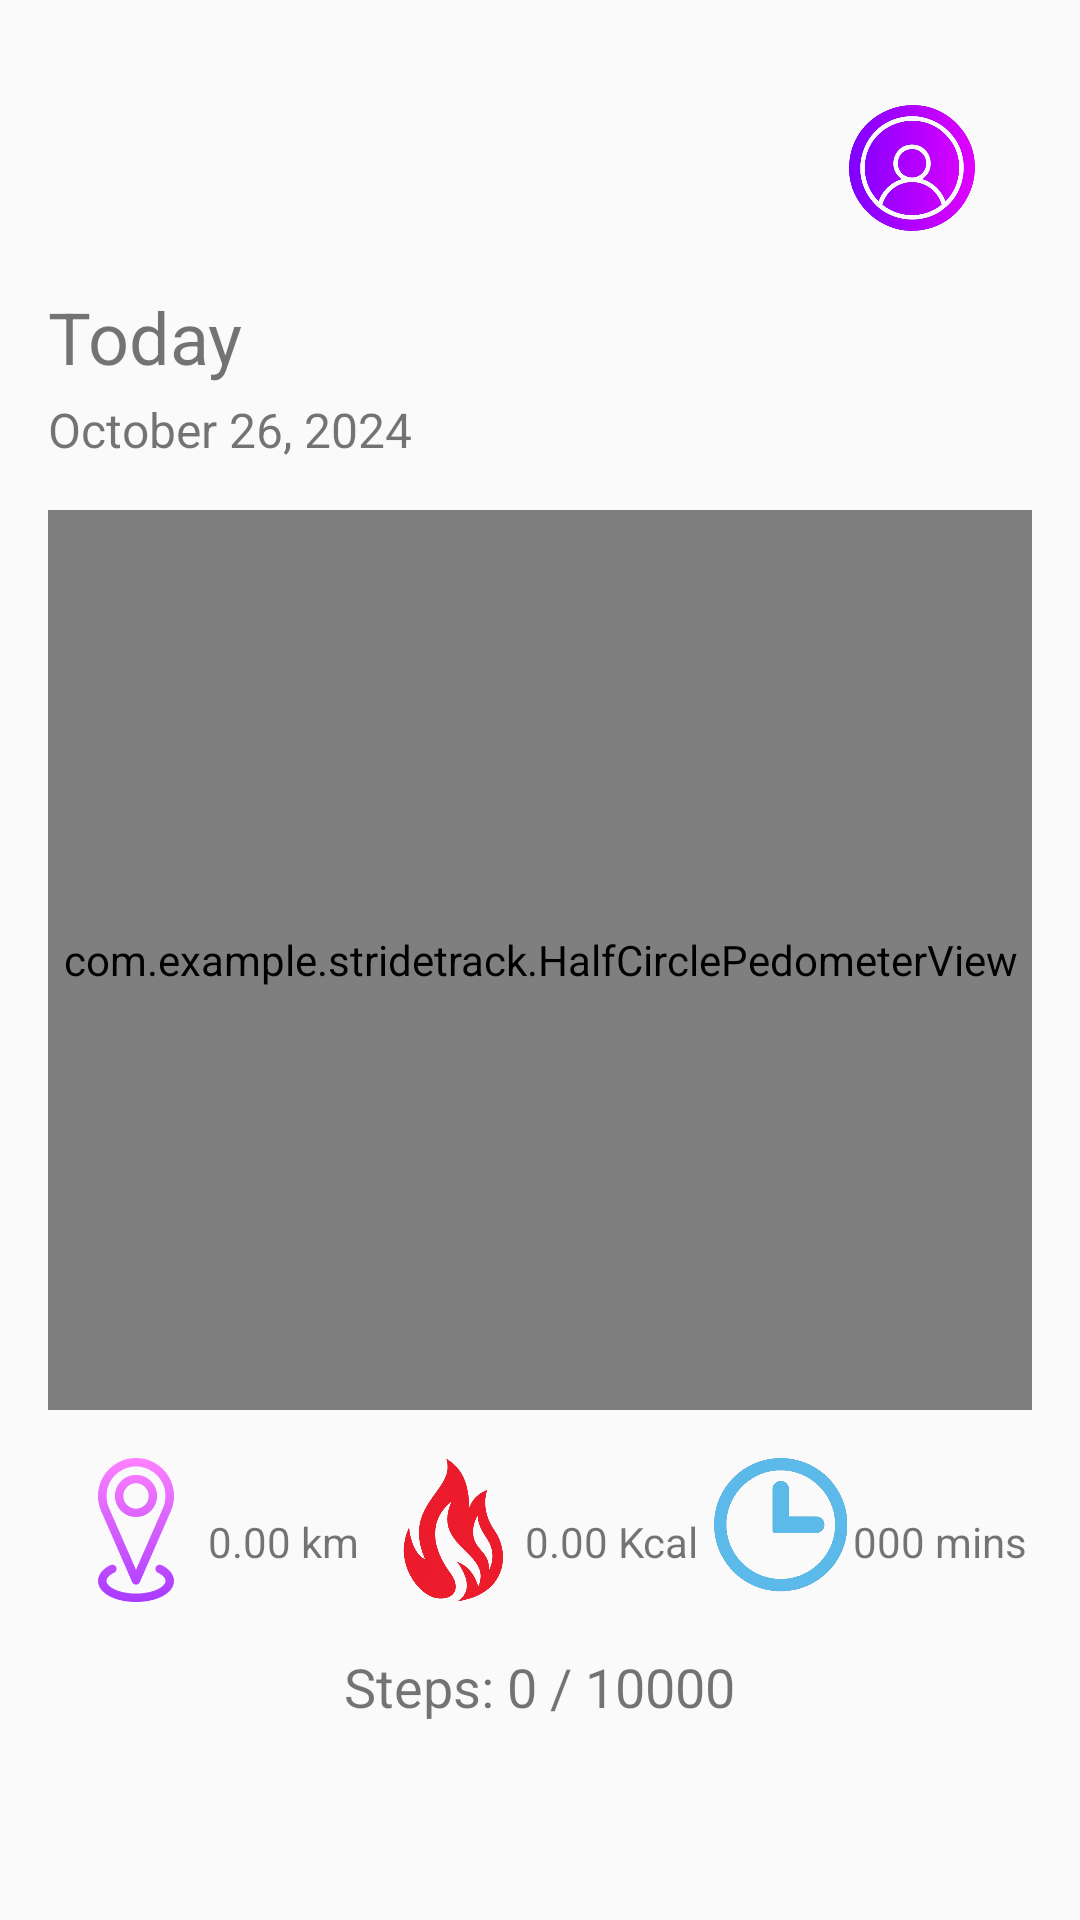

Named icons in this screenshot (1080 × 1920) and their bounding boxes, rect(x1, y1, x2, y2):
Calories: rect(403, 1459, 503, 1601)
Distance: rect(98, 1458, 174, 1602)
Profile: rect(849, 105, 975, 231)
Time: rect(714, 1458, 847, 1591)
